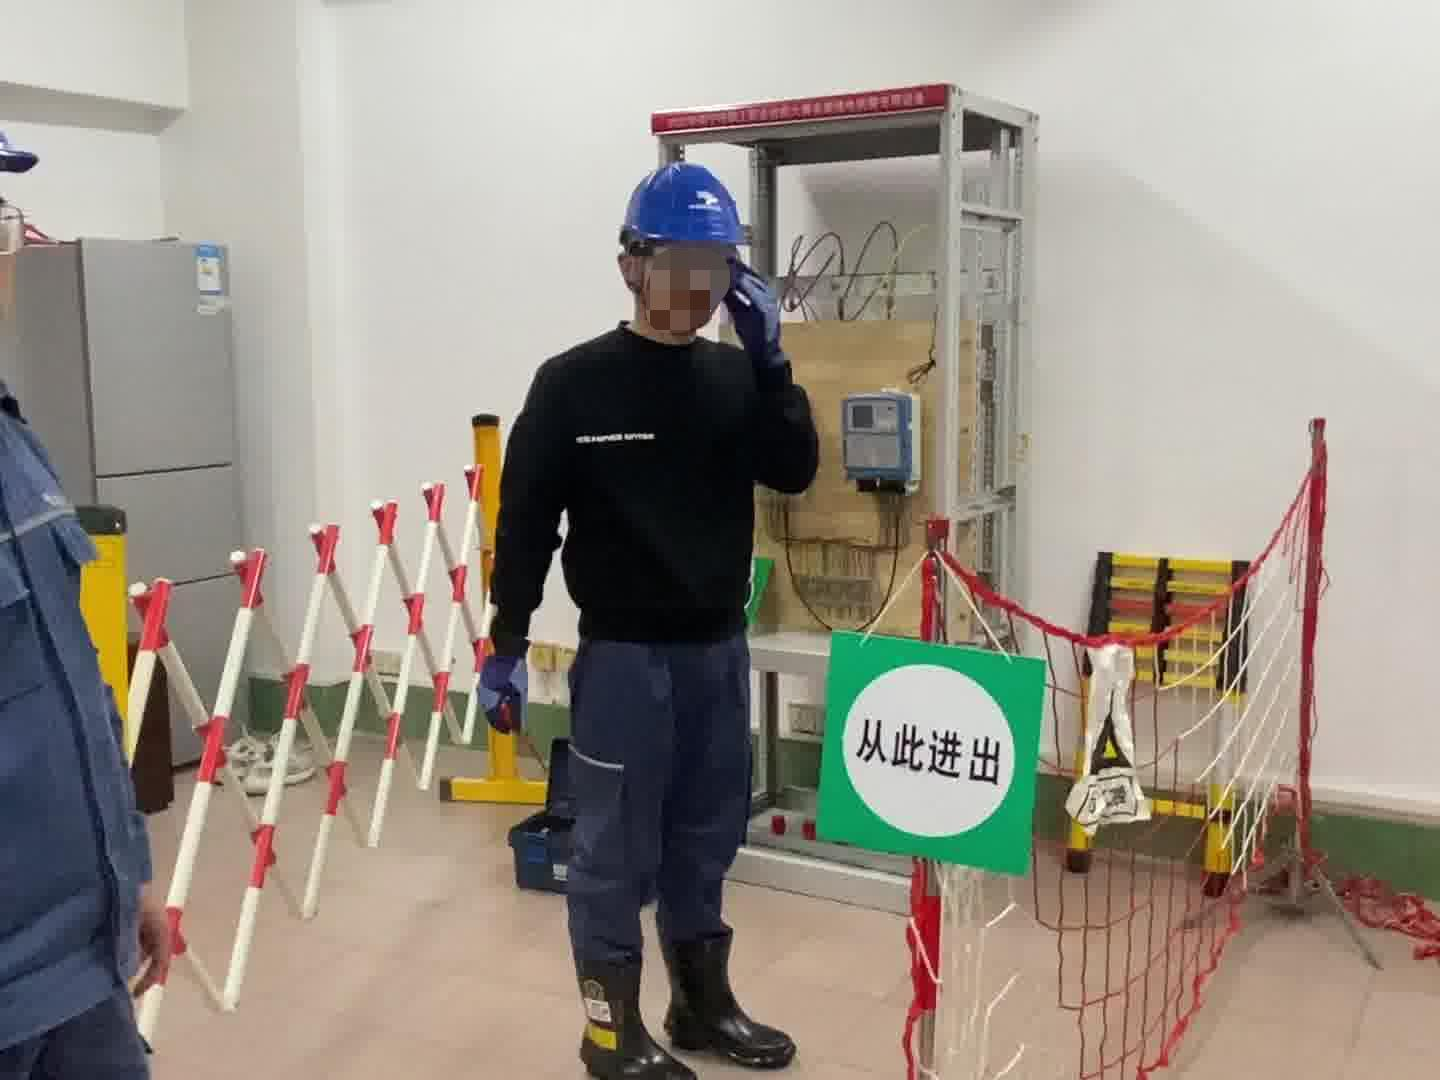halt: (615, 164, 749, 345)
inear: (617, 248, 657, 304)
